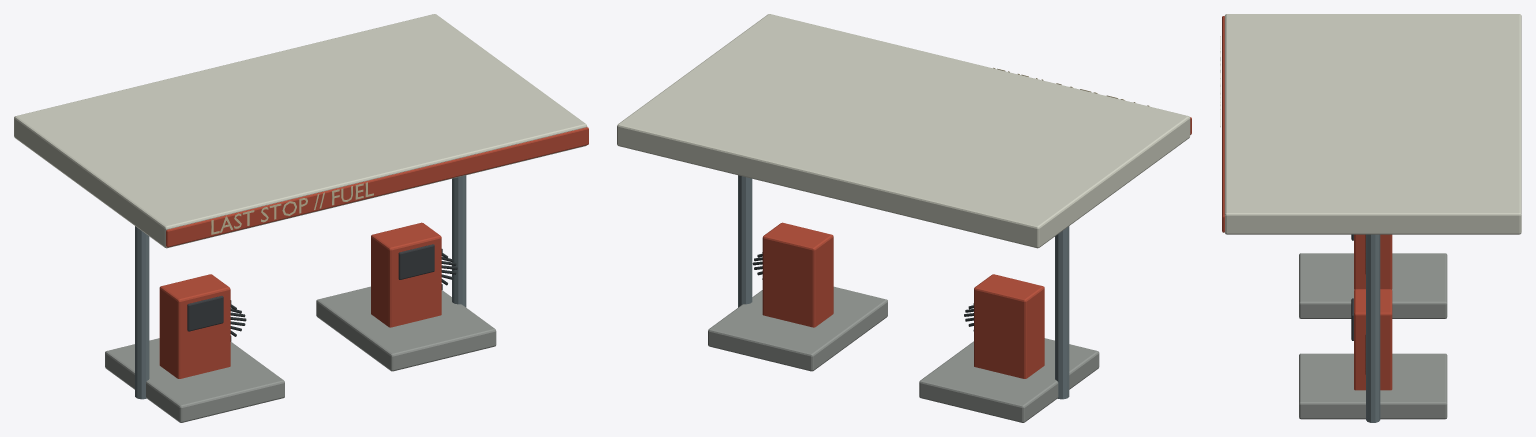
Rendered from petrol-station.glb.
The picture shows the model from 3 angles, left to right: view 1: azimuth 30°, elevation 25°; view 2: azimuth 150°, elevation 25°; view 3: azimuth 270°, elevation 25°; orthographic projection. The views are drawn at different scales.
Visible parts, largest first — view 1: petrol-station.001; view 2: petrol-station.001; view 3: petrol-station.001.
Boxes of the visible parts, x1,y1,x2,y2 form: petrol-station.001: (14, 14, 588, 422); petrol-station.001: (617, 14, 1191, 422); petrol-station.001: (1220, 14, 1521, 422).
Size of the model in its own units: 8 by 4.3 by 5.07.
